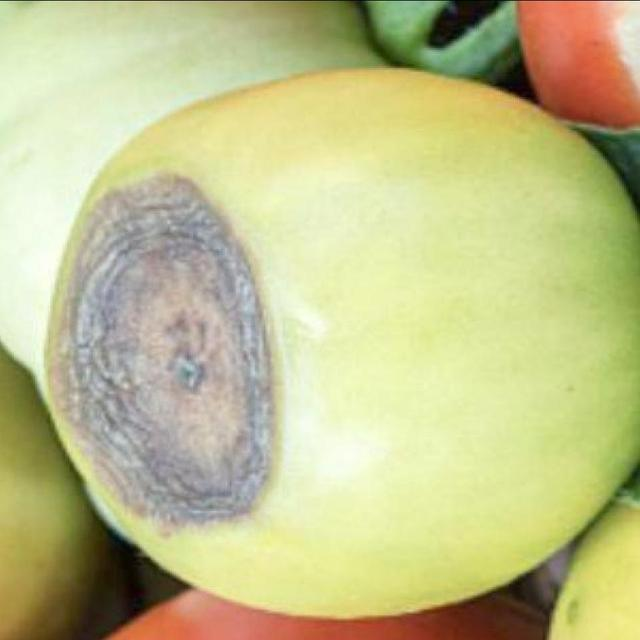Blossom End Rot Fruit: (30, 112, 182, 355)
